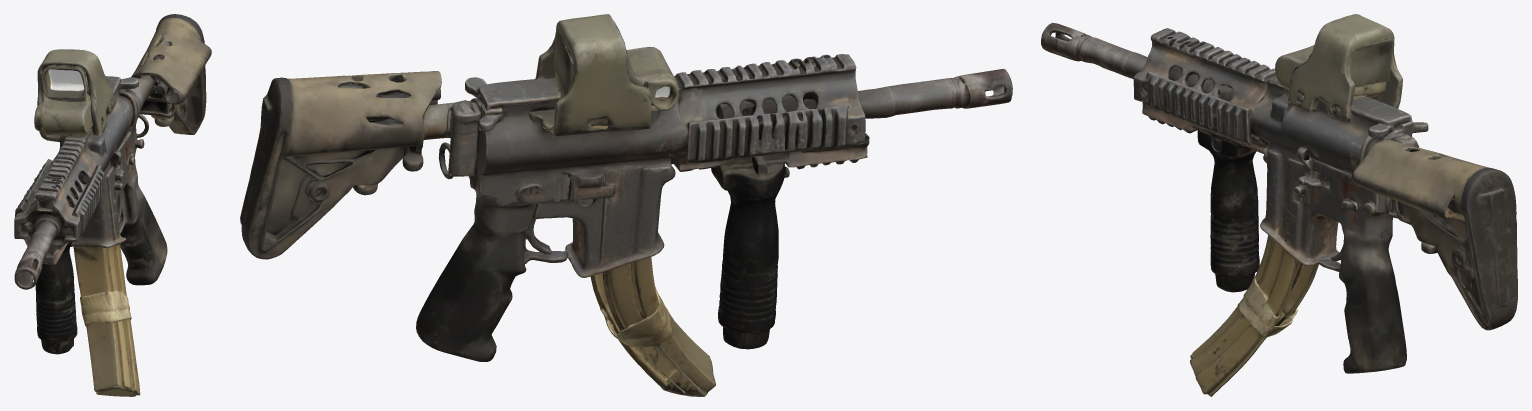
Rendered from assault_rifle_404gen.glb.
3 views of the same model, side by side, from view 1: azimuth 30°, elevation 25°; view 2: azimuth 150°, elevation 25°; view 3: azimuth 270°, elevation 25° (orthographic). The views are drawn at different scales.
Parts seen in each view (by area): view 1: world; view 2: world; view 3: world.
Boxes of the visible parts, x1,y1,x2,y2 form: world: (14, 14, 211, 396); world: (240, 14, 1012, 396); world: (1041, 14, 1517, 396).
Size of the model in its own units: 1 by 0.786 by 0.9222.
1 material, 1 textured.
